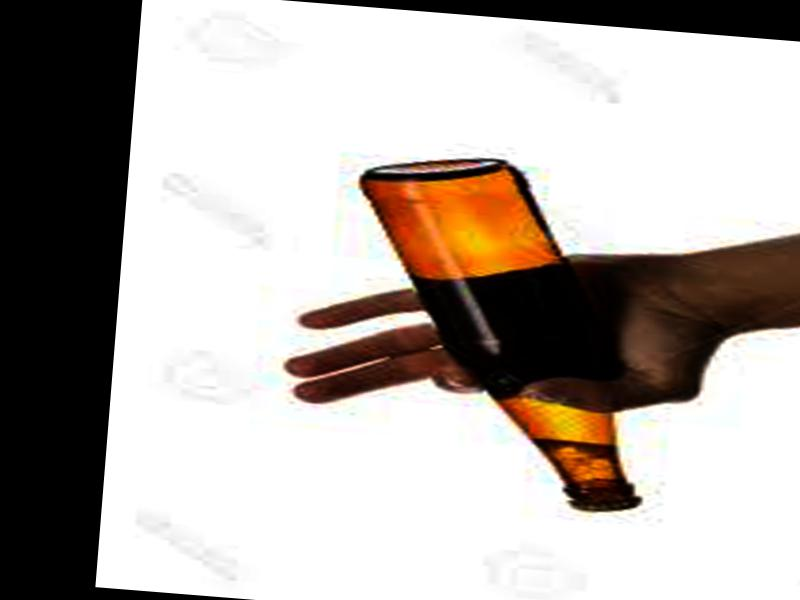Beer: (345, 151, 659, 507)
